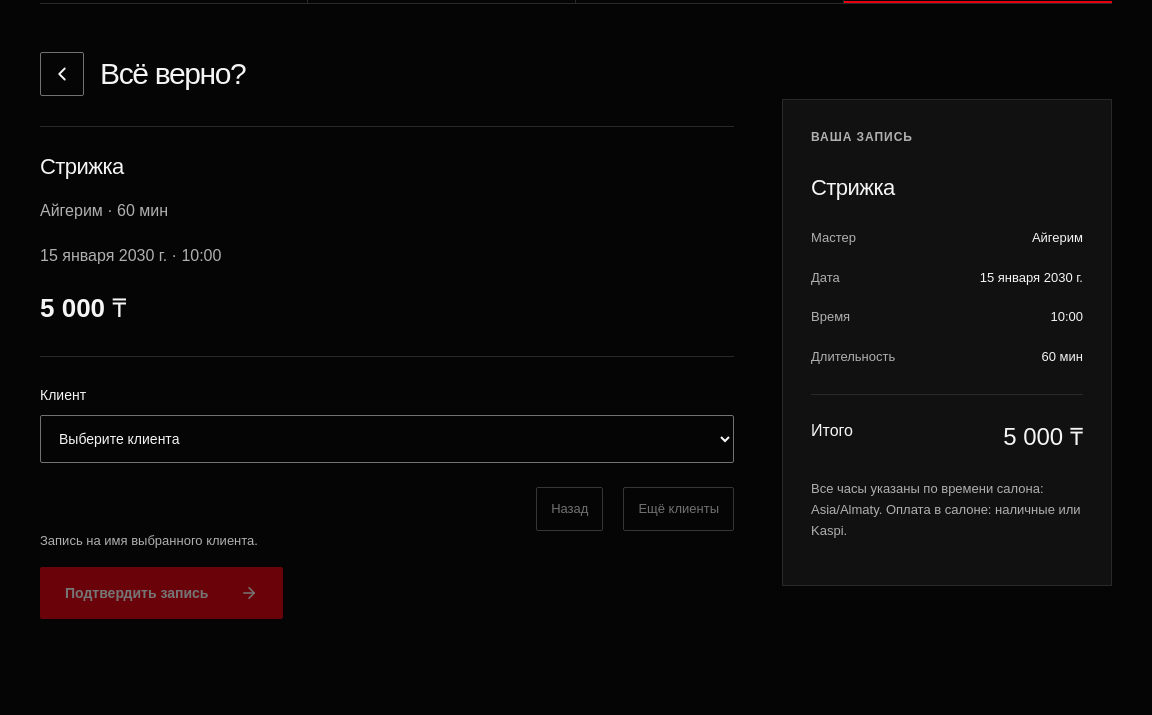
Test case: Book page: admin booking › re-checks the slot before booking and stops if it was taken meanwhile
(page scrolled)
Select "Асель · a@example.com" in the dropdown labelled "Клиент" at (387, 439), box [40,415,734,463]
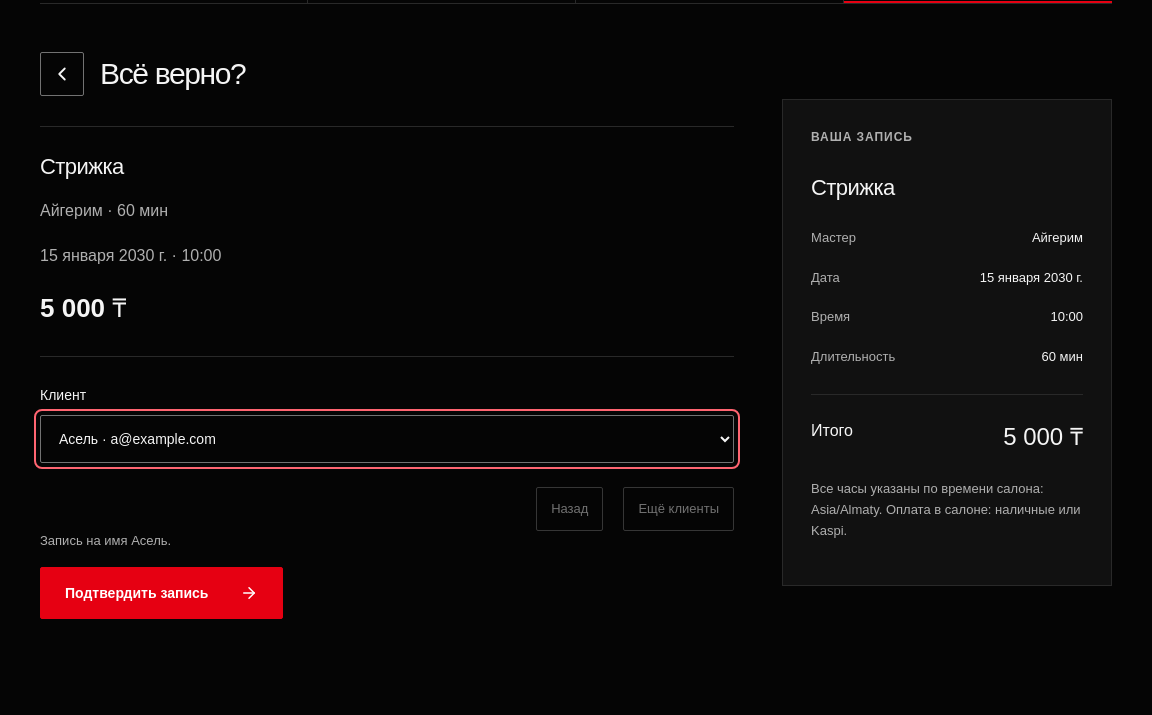
Click the button "Подтвердить запись" at (162, 593), box [40,567,284,619]
(page scrolled)
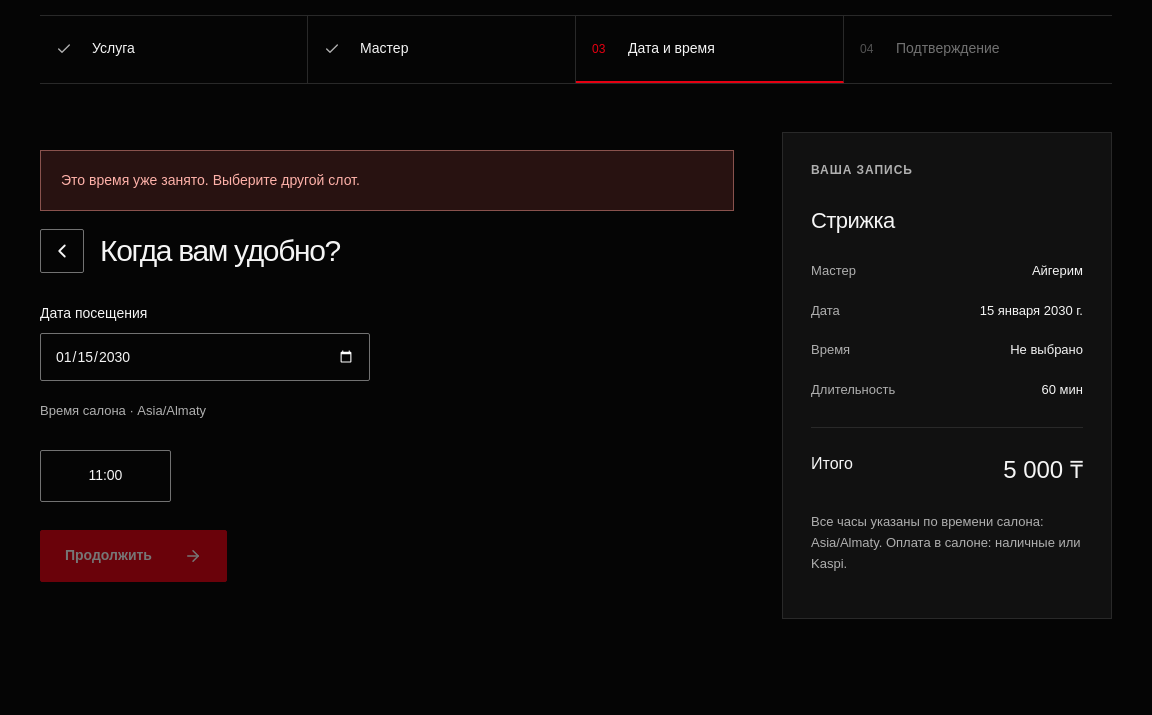
Check: the message shows "Это время уже занято", box [61,172,360,188]
Check: the heading "Когда вам удобно?" is shown, box [100,234,340,268]
